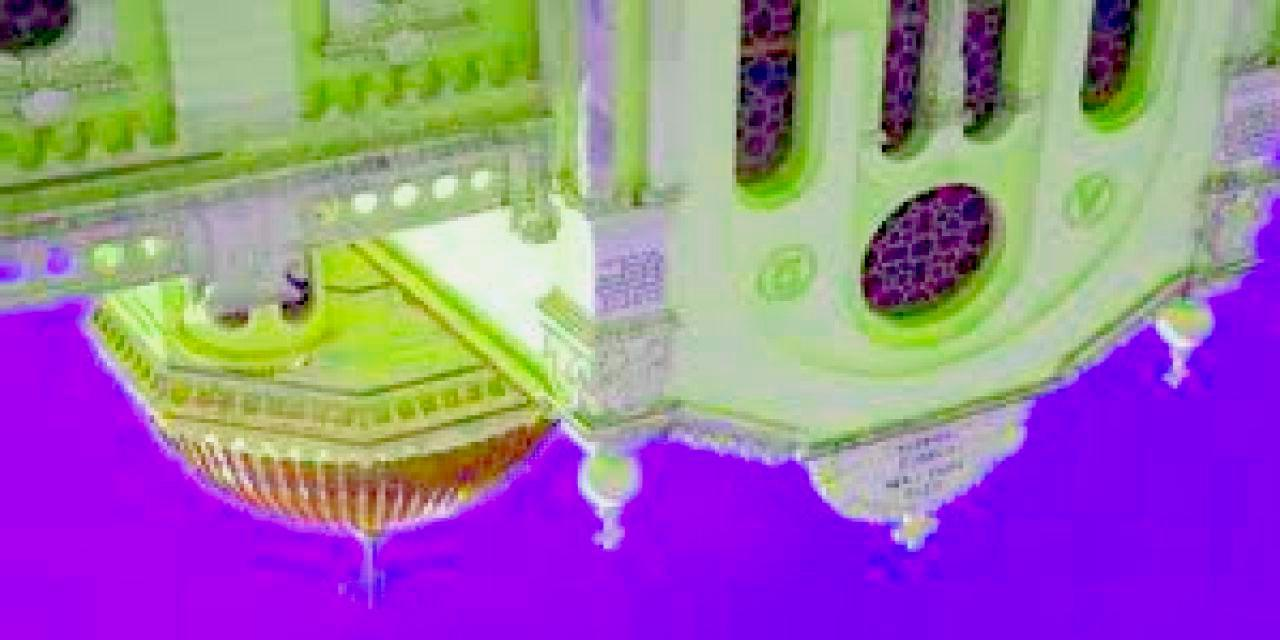Agios Minas: (1, 1, 1280, 611)
